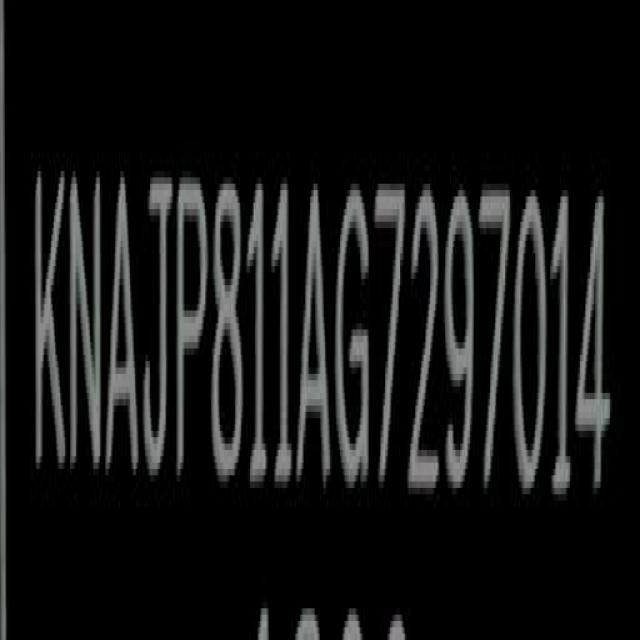0: (516, 179, 550, 501)
1: (271, 173, 292, 497), (248, 172, 268, 494), (554, 182, 574, 502)
2: (411, 181, 442, 498)
4: (577, 187, 611, 502)
7: (373, 171, 409, 495), (479, 177, 512, 502)
8: (212, 176, 243, 494)
9: (445, 179, 477, 499)
A: (298, 178, 334, 491), (108, 170, 142, 483)
G: (334, 171, 372, 495)
J: (142, 155, 174, 486)
K: (34, 156, 66, 470)
N: (70, 168, 104, 470)
P: (178, 171, 211, 496)
